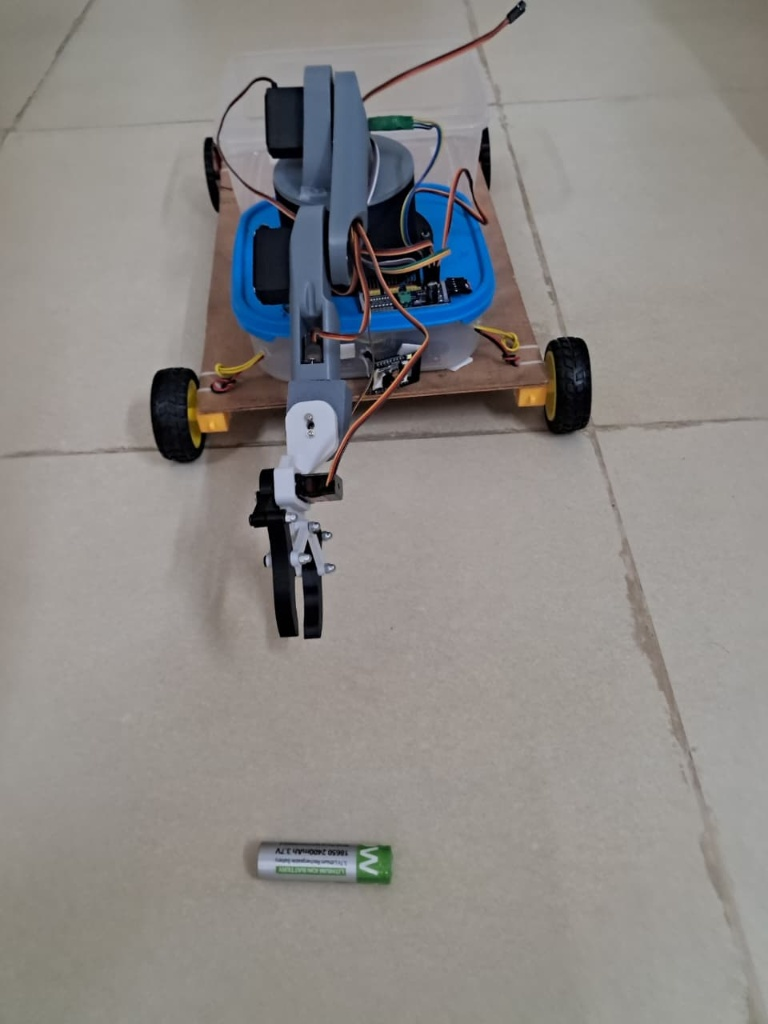battery: (247, 832, 396, 901)
